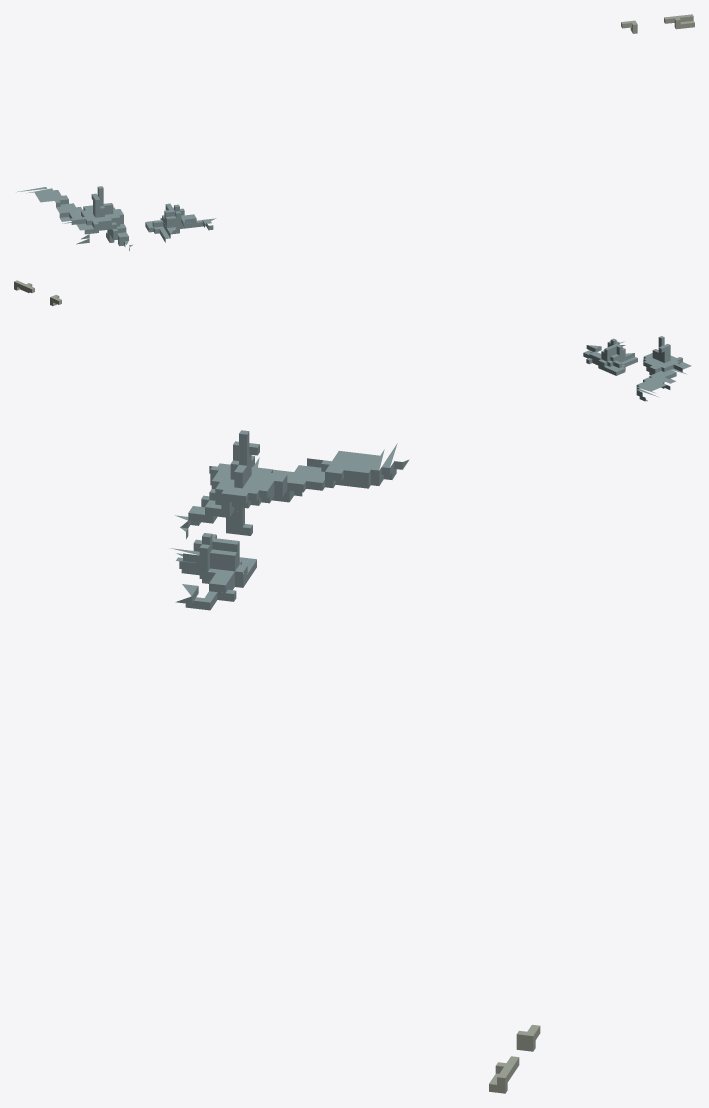
3 renders of one model, top to bottom at view 1: azimuth 30°, elevation 25°; view 2: azimuth 150°, elevation 25°; view 3: azimuth 270°, elevation 25°, orthographic. The views are drawn at different scales.
Visible parts, largest first — view 1: measured-industrial; view 2: measured-industrial; view 3: measured-industrial.
Part boxes in pixels (left/top/right/bottom): measured-industrial: left=16, top=14, right=694, bottom=250; measured-industrial: left=14, top=280, right=691, bottom=401; measured-industrial: left=169, top=430, right=540, bottom=1093.
Size of the model in its own units: 255 by 18 by 64.85.
